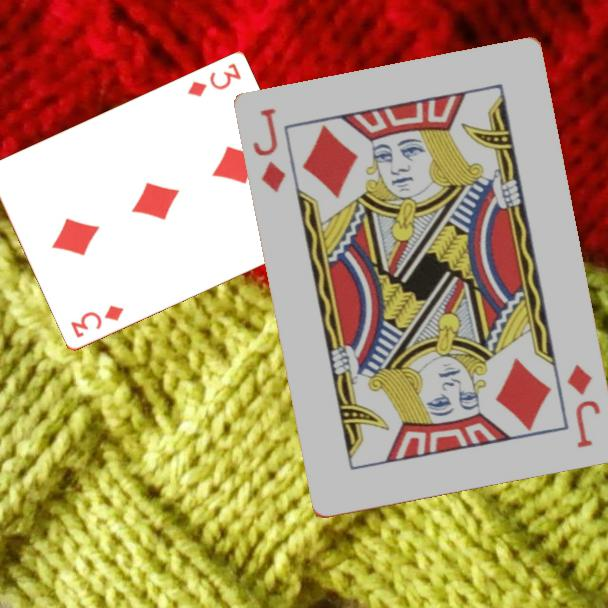d03: (184, 60, 244, 100), (67, 302, 127, 341)
d11: (249, 105, 289, 196), (564, 361, 604, 451)
